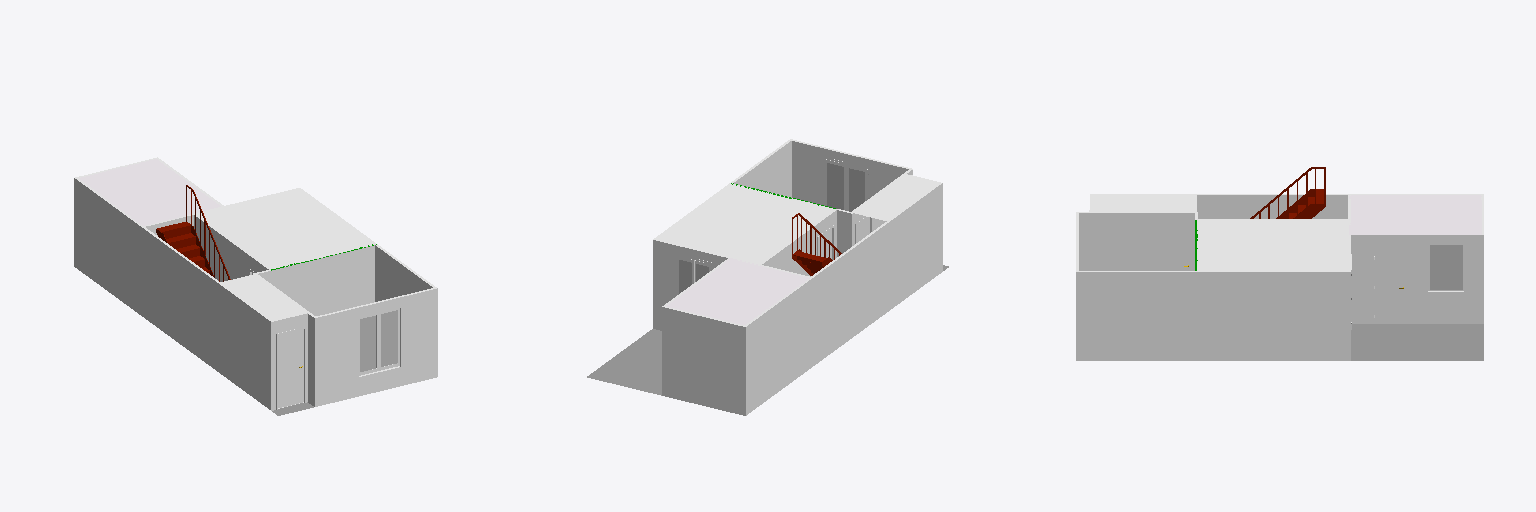
The model's file is floorplanforOBJexport 1.obj.
3 renders of one model, left to right at view 1: azimuth 30°, elevation 25°; view 2: azimuth 150°, elevation 25°; view 3: azimuth 270°, elevation 25°, orthographic.
Parts seen in each view (by area): view 1: wall_14_69, wall_10_54, room_2_206, wall_3_15, room_1_204, wall_6_33, Porte_102, room_4_209, wall_7_39, wall_11_57, wall_13_63, sweethome3d_window_pane_170 (+3 smaller); view 2: wall_14_69, room_2_206, wall_1_3, wall_3_15, room_1_204, wall_10_51, ground_1, wall_4_21, room_4_209, wall_11_57, wall_7_39, sweethome3d_window_pane_170 (+2 smaller); view 3: wall_5_27, wall_11_60, room_2_206, wall_2_9, room_1_204, ground_1, wall_17_87, wall_14_72, Porte_124, room_4_209, sweethome3d_window_pane_119, Porte_186 (+1 smaller).
Boxes of the visible parts, <box> form: wall_14_69: <box>141,228,270,409</box>; wall_10_54: <box>315,288,437,406</box>; room_2_206: <box>197,189,374,268</box>; wall_3_15: <box>74,178,141,315</box>; room_1_204: <box>79,159,220,225</box>; wall_6_33: <box>272,245,374,315</box>; Porte_102: <box>278,329,303,407</box>; room_4_209: <box>220,274,304,319</box>; wall_7_39: <box>194,215,268,281</box>; wall_11_57: <box>375,245,432,301</box>; wall_13_63: <box>271,313,307,410</box>; sweethome3d_window_pane_170: <box>381,310,397,366</box>; wall_14_69: <box>813,183,942,365</box>; room_2_206: <box>658,184,836,264</box>; wall_1_3: <box>662,307,745,415</box>; wall_3_15: <box>746,278,812,415</box>; room_1_204: <box>667,258,809,324</box>; wall_10_51: <box>792,141,908,204</box>; ground_1: <box>587,265,948,395</box>; wall_4_21: <box>653,240,727,330</box>; room_4_209: <box>853,175,937,220</box>; wall_11_57: <box>734,141,791,197</box>; wall_7_39: <box>762,210,836,276</box>; sweethome3d_window_pane_170: <box>827,163,843,209</box>; wall_5_27: <box>1195,272,1350,360</box>; wall_11_60: <box>1076,272,1196,360</box>; room_2_206: <box>1197,220,1348,270</box>; wall_2_9: <box>1351,235,1483,323</box>; room_1_204: <box>1349,195,1481,234</box>; ground_1: <box>1351,324,1483,360</box>; wall_17_87: <box>1091,213,1194,270</box>; wall_14_72: <box>1197,195,1347,218</box>; Porte_124: <box>1374,250,1405,323</box>; room_4_209: <box>1091,195,1196,211</box>; sweethome3d_window_pane_119: <box>1430,245,1462,289</box>; Porte_186: <box>1159,228,1189,270</box>.
Bounding box in the file's own units: 457 × 362 × 1015.